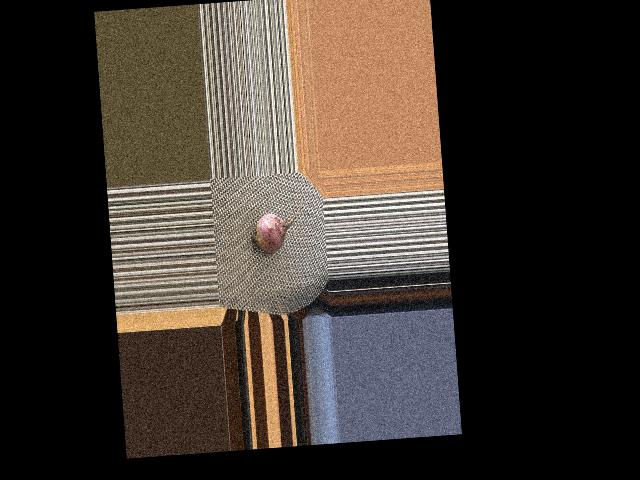beet: (247, 193, 307, 255)
